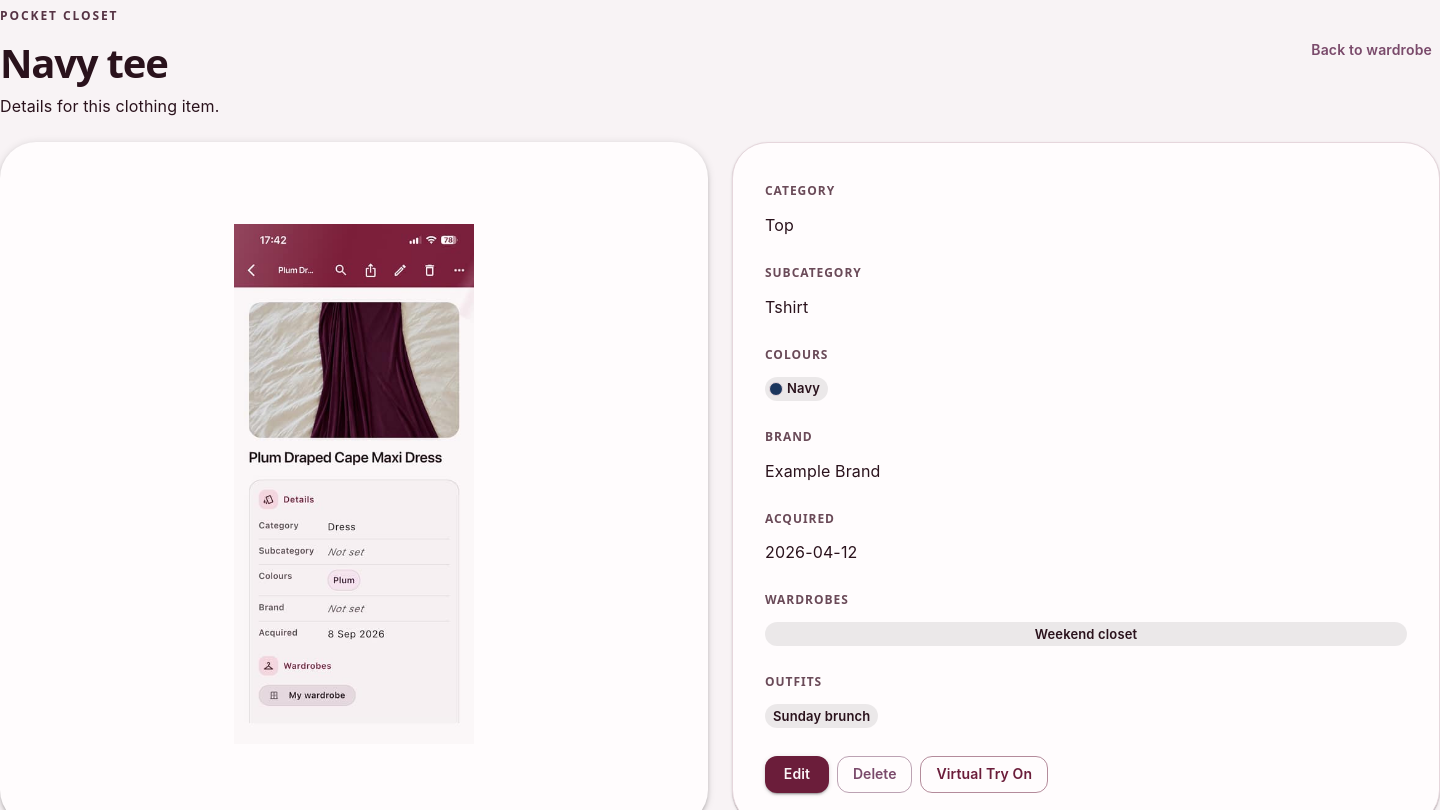
Test: ItemDetailPage › disables delete dialog buttons while delete is running
Click the button with aria-label "Delete this clothing item".
click(875, 775)  # box [837,756,912,793]
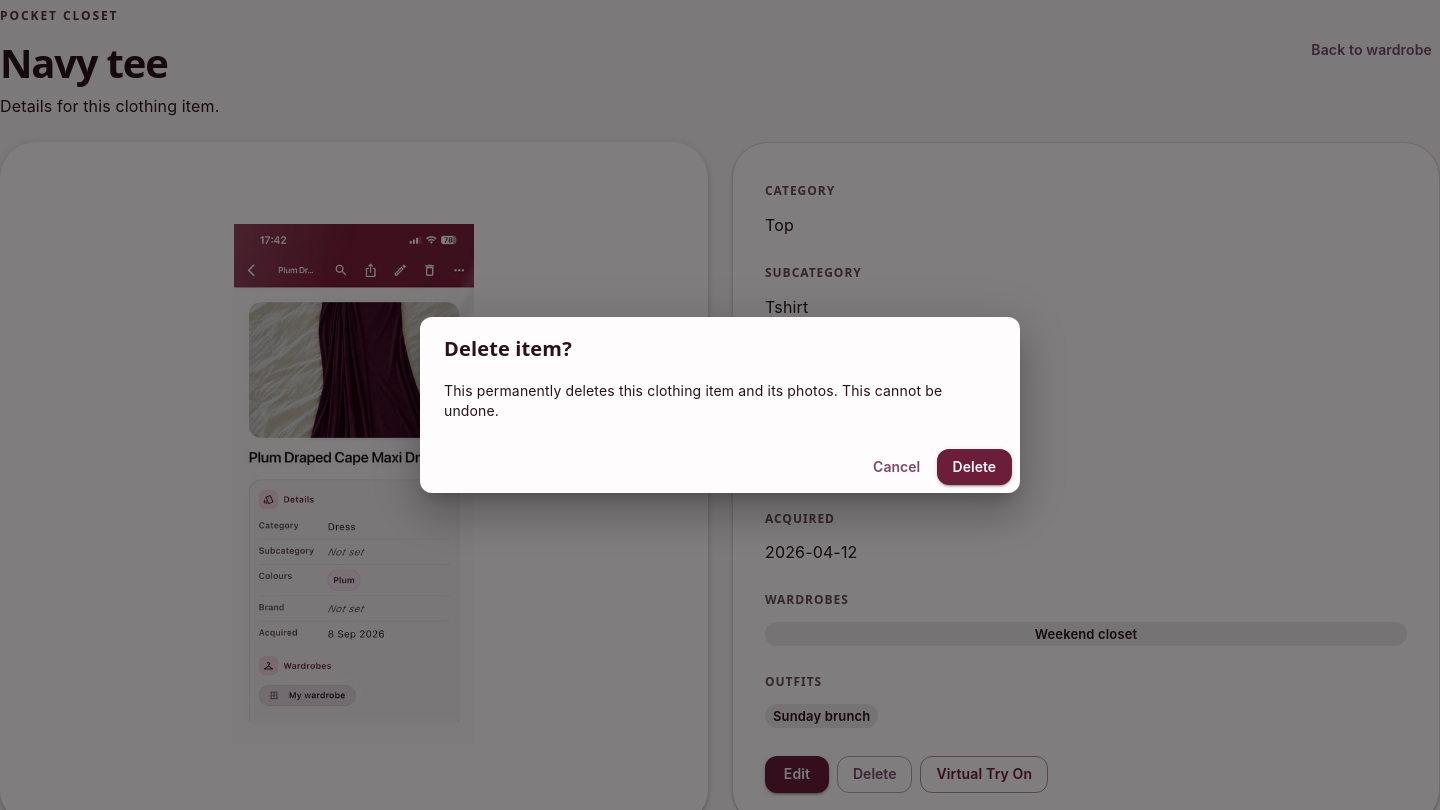
Click the button "Delete".
click(974, 467)  # box [937,449,1012,485]
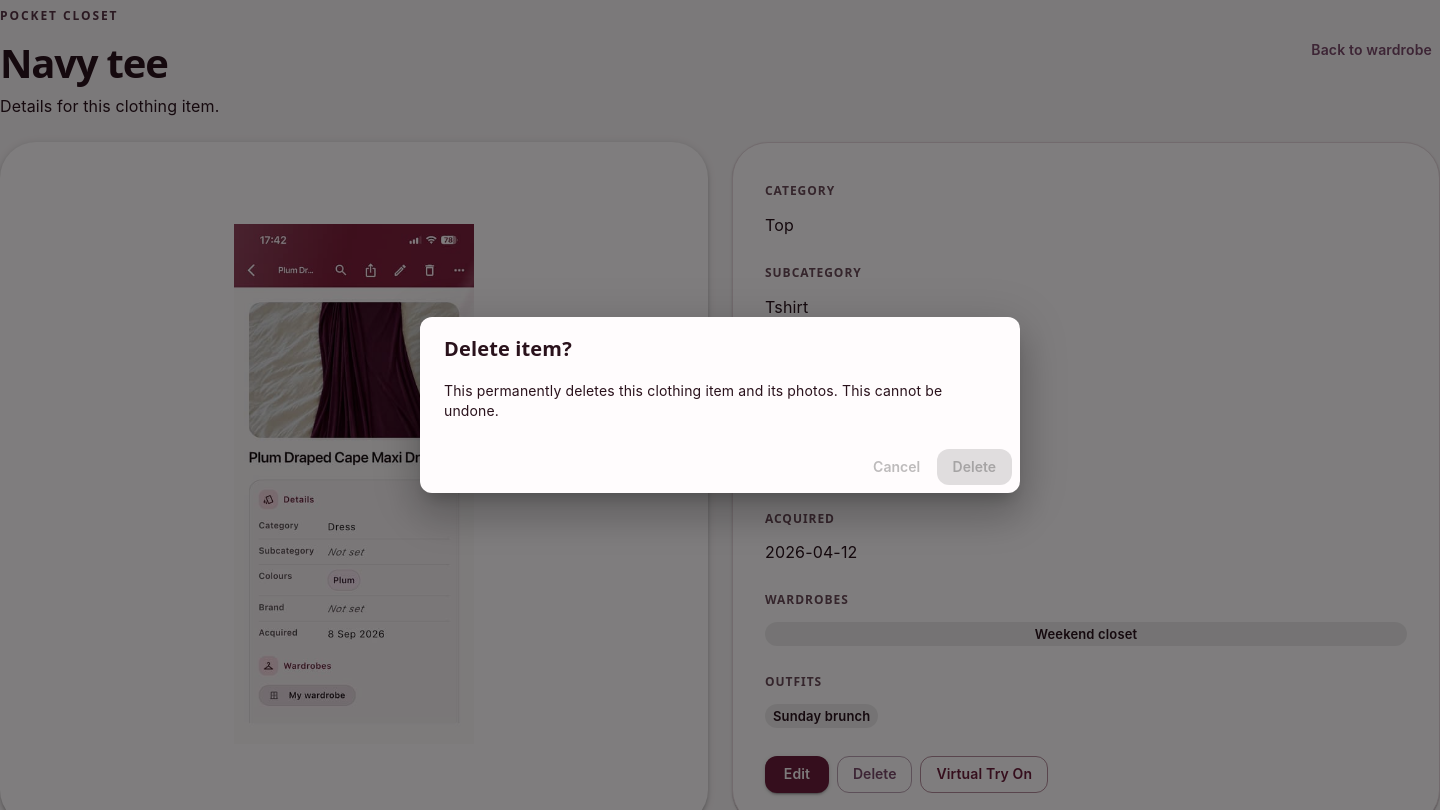
Now the button "Cancel" is disabled, box [865,449,929,485]
Now the button "Delete" is disabled, box [937,449,1012,485]
